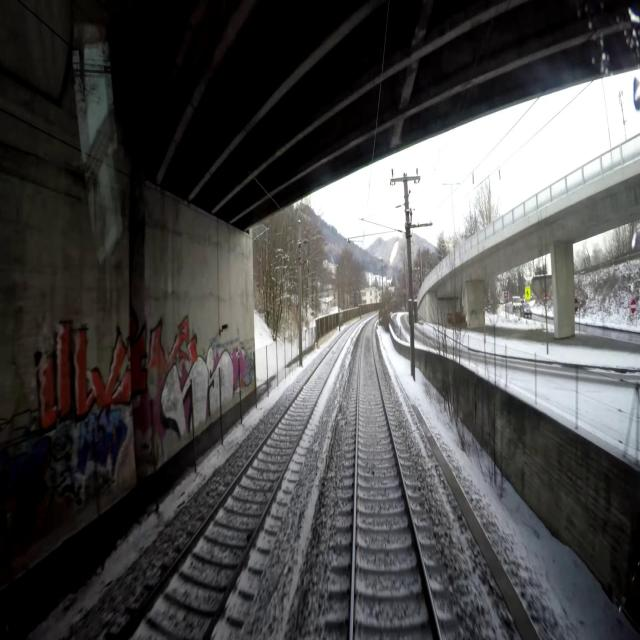rail-track: (120, 327, 352, 639), (354, 319, 437, 639)
